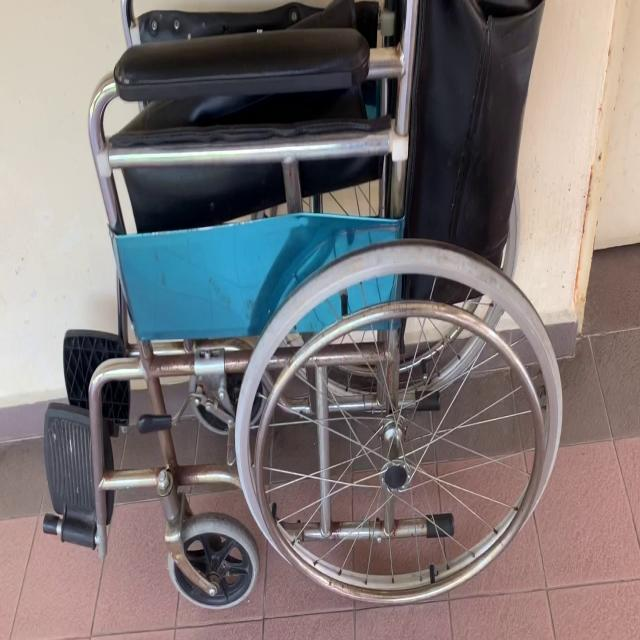wheelchair: (38, 0, 604, 639)
